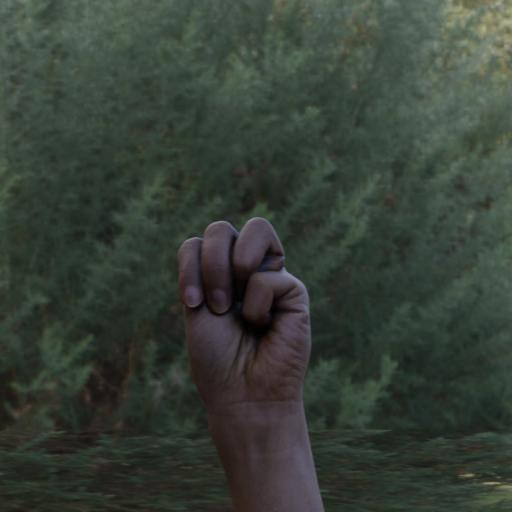M: (162, 206, 344, 433)
